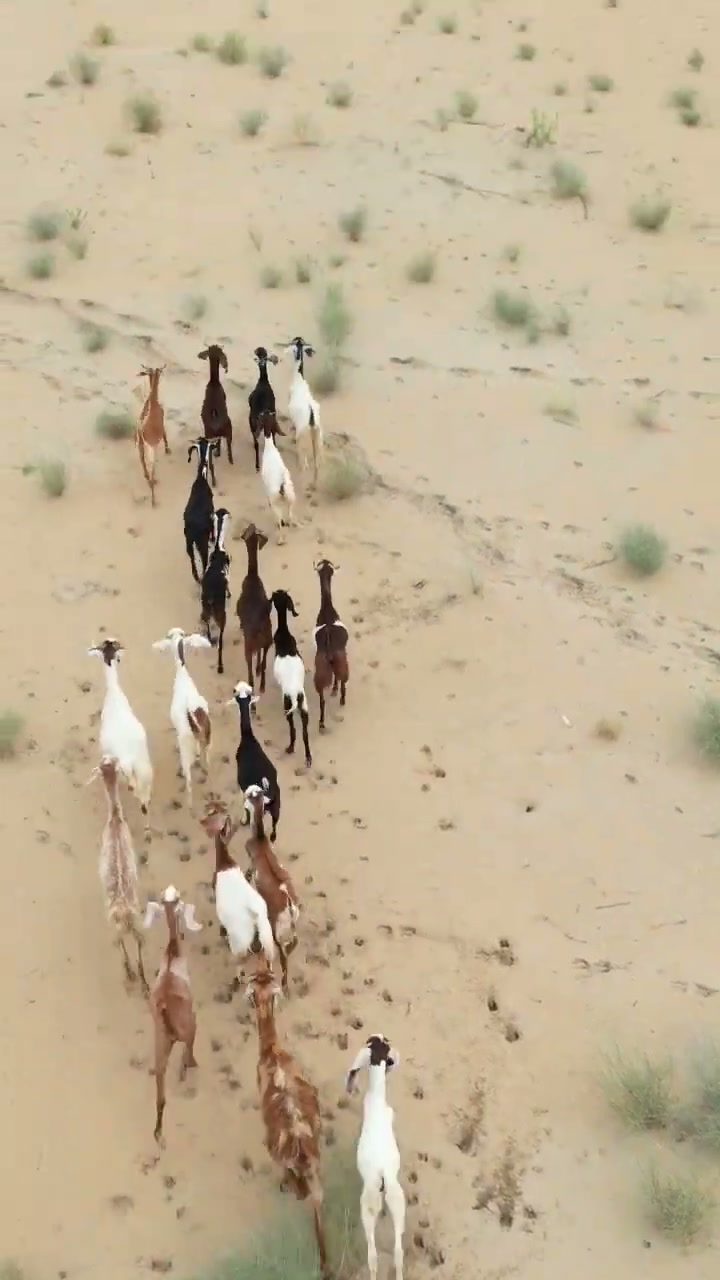animal_foot_print: (297, 725, 427, 1268)
